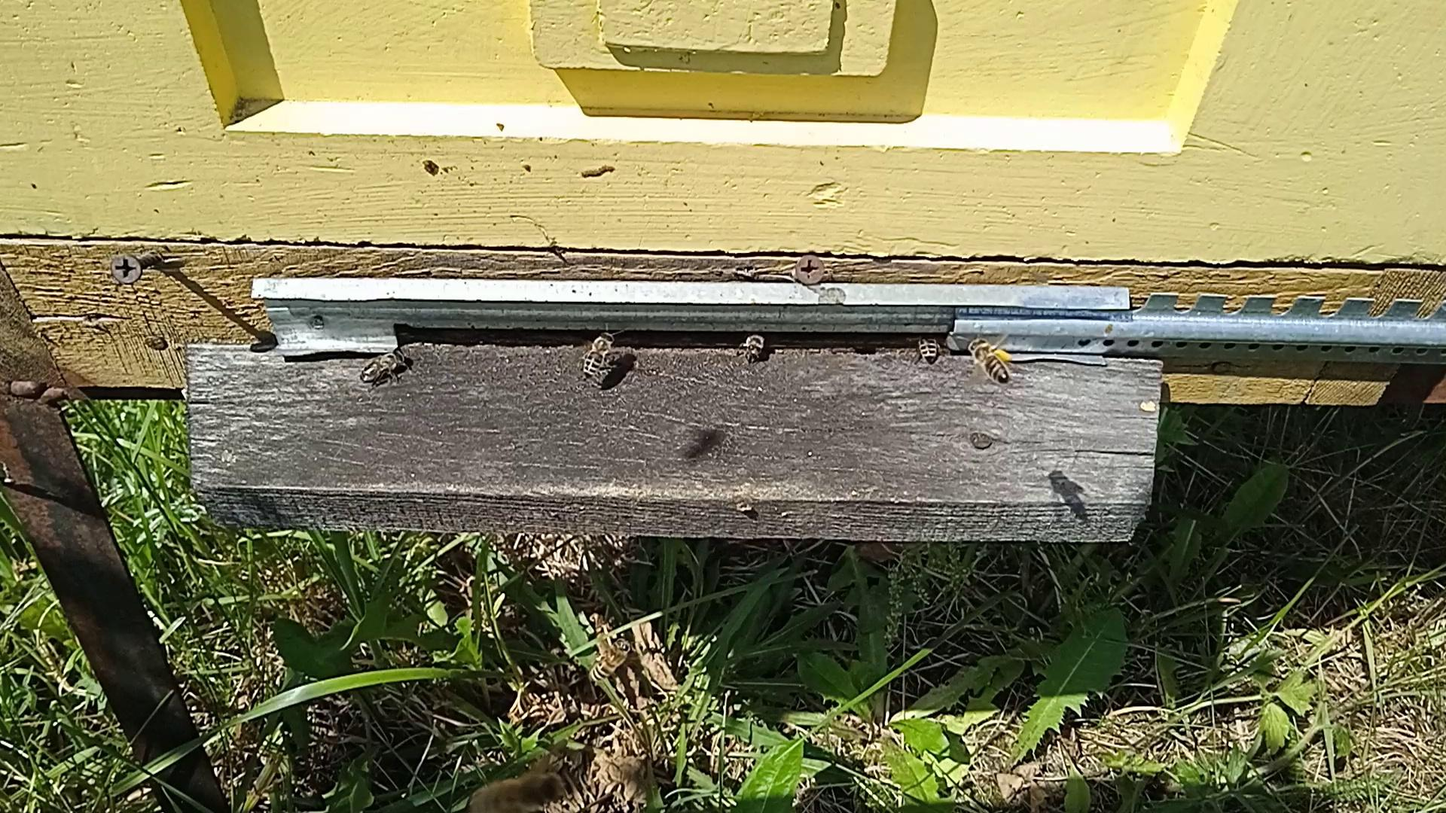worker-bee: (466, 771, 566, 813), (966, 336, 1014, 384), (581, 330, 620, 381), (591, 637, 632, 682), (360, 349, 409, 384), (914, 333, 947, 364), (738, 330, 769, 359)
